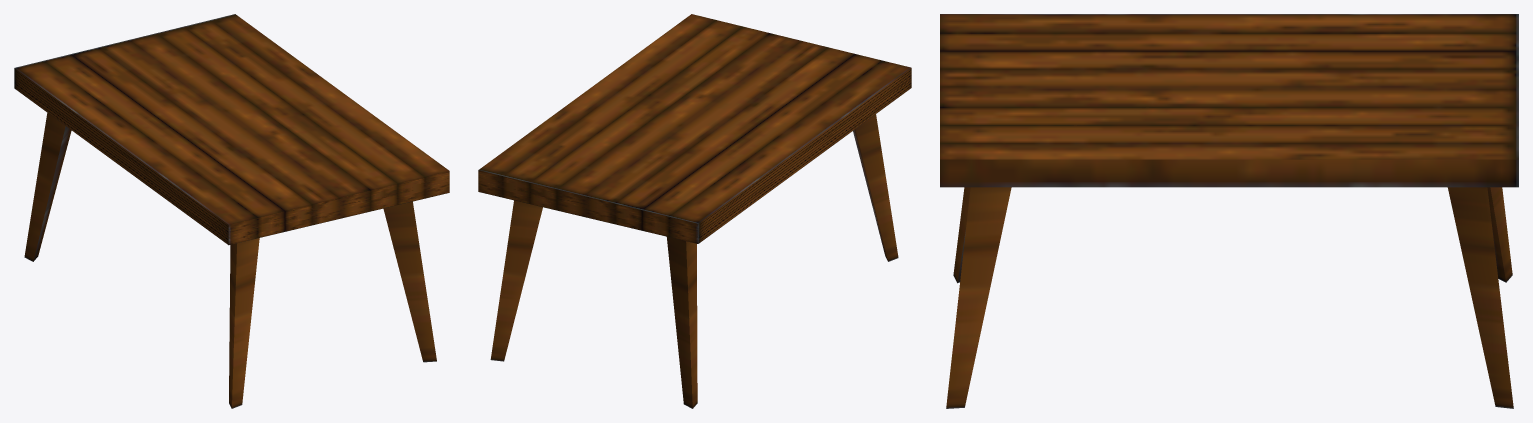
The model's file is Tisch_Groß_286.glb.
3 views of the same model, side by side, from view 1: azimuth 30°, elevation 25°; view 2: azimuth 150°, elevation 25°; view 3: azimuth 270°, elevation 25° (orthographic). The views are drawn at different scales.
Visible parts, largest first — view 1: pPlaneShape1, pPlaneShape4, pPlaneShape3, pCylinderShape81, pCylinderShape82, pCylinderShape79; view 2: pPlaneShape1, pPlaneShape5, pPlaneShape3, pCylinderShape79, pCylinderShape80, pCylinderShape82; view 3: pPlaneShape1, pPlaneShape2, pCylinderShape81, pCylinderShape80, pCylinderShape79, pCylinderShape82.
Boxes of the visible parts, x1=… form: pPlaneShape1: x1=15, y1=14, x2=449, y2=224; pPlaneShape4: x1=228, y1=171, x2=449, y2=244; pPlaneShape3: x1=14, y1=68, x2=228, y2=244; pCylinderShape81: x1=383, y1=201, x2=436, y2=362; pCylinderShape82: x1=229, y1=238, x2=259, y2=408; pCylinderShape79: x1=24, y1=113, x2=71, y2=261; pPlaneShape1: x1=478, y1=14, x2=910, y2=223; pPlaneShape5: x1=478, y1=170, x2=698, y2=243; pPlaneShape3: x1=698, y1=68, x2=911, y2=243; pCylinderShape79: x1=667, y1=236, x2=697, y2=408; pCylinderShape80: x1=490, y1=200, x2=542, y2=361; pCylinderShape82: x1=853, y1=114, x2=898, y2=261; pPlaneShape1: x1=940, y1=14, x2=1518, y2=159; pPlaneShape2: x1=940, y1=159, x2=1518, y2=187; pCylinderShape81: x1=946, y1=187, x2=1011, y2=408; pCylinderShape80: x1=1447, y1=187, x2=1513, y2=408; pCylinderShape79: x1=1487, y1=187, x2=1512, y2=282; pCylinderShape82: x1=953, y1=187, x2=970, y2=283.
Bounding box in the file's own units: 0.1471 × 0.1206 × 0.2471.
9 materials, 9 textured.
